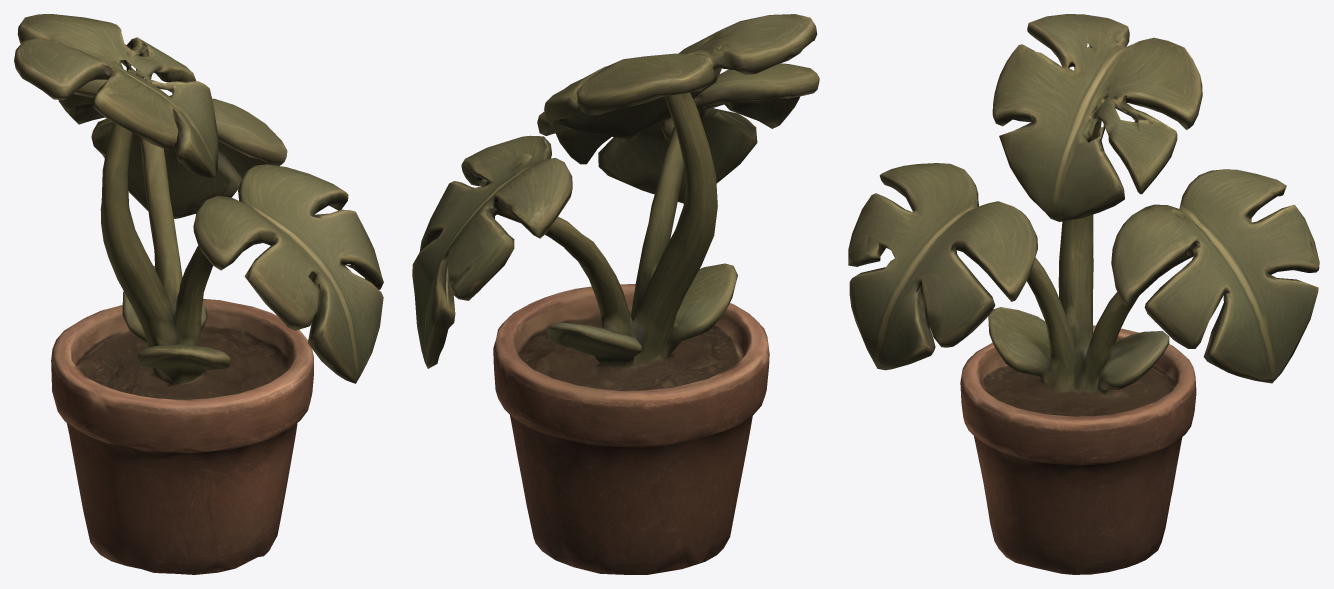
The model's file is Prop_GreenhousePotF.fbx.
The picture shows the model from 3 angles, left to right: view 1: azimuth 30°, elevation 25°; view 2: azimuth 150°, elevation 25°; view 3: azimuth 270°, elevation 25°; orthographic projection. The views are drawn at different scales.
Visible parts, largest first — view 1: texture_mapping; view 2: texture_mapping; view 3: texture_mapping.
Boxes of the visible parts, left/top/right/bottom form: texture_mapping: left=14, top=14, right=383, bottom=574; texture_mapping: left=412, top=14, right=819, bottom=574; texture_mapping: left=848, top=14, right=1319, bottom=574.
Size of the model in its own units: 0.6042 by 0.9261 by 1.
Materials: 1 (1 with a texture image).
